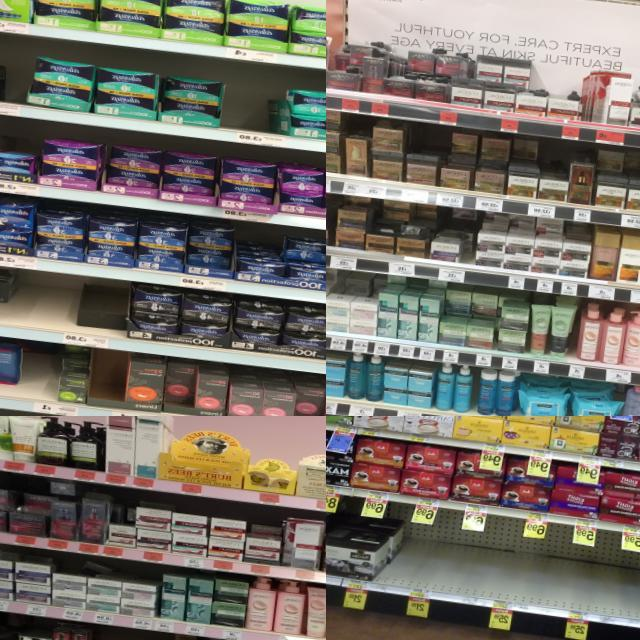void: (434, 523, 526, 609), (519, 533, 602, 620), (12, 268, 82, 344), (382, 515, 442, 597), (595, 541, 640, 629), (219, 74, 273, 144), (15, 352, 60, 414), (0, 46, 32, 116)
